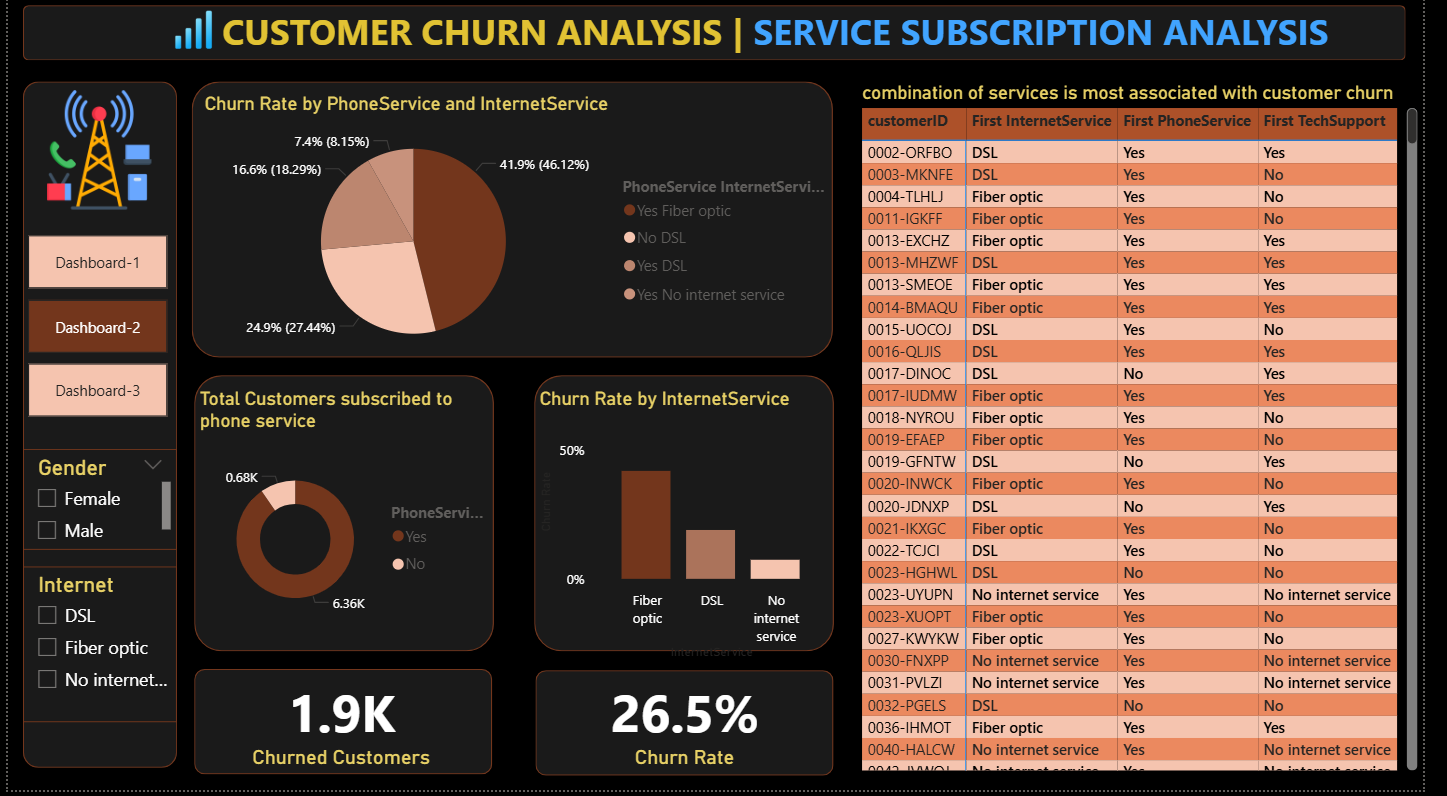

This screenshot's page, from the dashboard's own definition file:
{"tool":"powerbi","page":{"name":"Dashboard-2","canvas":[1280,720],"ordinal":1},"visuals":[{"type":"shape","box":[14.1,10.6,1250.7,50],"z":0},{"type":"textbox","box":[188.8,6.7,1031.2,59.1],"z":1000,"group":"g1"},{"type":"shape","box":[13.6,78.7,139.3,620.8],"z":1000},{"type":"shape","box":[166.6,78.7,579.9,249.8],"z":2000},{"type":"shape","box":[475.5,345.2,271,249.8],"z":3000},{"type":"slicer","fields":{"Values":["Telco_Customer_Churn_Data.gender"]},"box":[13.6,411.9,139.3,90.9],"z":4000},{"type":"slicer","fields":{"Values":["Telco_Customer_Churn_Data.InternetService"]},"box":[13.6,517.9,139.3,140.8],"z":5000},{"type":"image","box":[24.2,81.8,118.1,119.6],"z":6000},{"type":"group","id":"g1","title":"Group 1","box":[145.4,6.7,1074.5,59.1],"z":7000},{"type":"clusteredColumnChart","fields":{"Category":["Telco_Customer_Churn_Data.InternetService"],"Y":["Telco_Customer_Churn_Data.Churn Rate"]},"box":[475.5,355.8,271,249.8],"z":8000},{"type":"pieChart","fields":{"Category":["Telco_Customer_Churn_Data.PhoneService","Telco_Customer_Churn_Data.InternetService"],"Y":["Telco_Customer_Churn_Data.Churn Rate"]},"box":[172.6,89.3,567.8,249.8],"z":9000},{"type":"pivotTable","title":"combination of services is most associated with customer churn","fields":{"Values":["Min(Telco_Customer_Churn_Data.InternetService)","Min(Telco_Customer_Churn_Data.PhoneService)","Min(Telco_Customer_Churn_Data.TechSupport)"],"Rows":["Telco_Customer_Churn_Data.customerID"]},"box":[767.7,78.7,511.8,628.4],"z":10000},{"type":"shape","box":[168.1,345.2,271,249.8],"z":11000},{"type":"donutChart","title":"Total Customers subscribed to phone service ","fields":{"Y":["CountNonNull(Telco_Customer_Churn_Data.customerID)"],"Category":["Telco_Customer_Churn_Data.PhoneService"]},"box":[168.1,355.8,271,236.2],"z":12000},{"type":"shape","box":[168.1,610.2,269.5,95.4],"z":13000},{"type":"shape","box":[477,611.7,269.5,95.4],"z":14000},{"type":"card","title":"Total Customer","fields":{"Values":["Telco_Customer_Churn_Data.Churned Customers K"]},"box":[166.6,602.7,271,112.1],"z":15000},{"type":"card","title":"Total Customer","fields":{"Values":["Telco_Customer_Churn_Data.Churn Rate"]},"box":[480,602.7,263.5,112.1],"z":16000},{"type":"pageNavigator","box":[18.4,217.9,126.8,165.8],"z":17000},{"type":"image","box":[145.4,7.6,43.9,48.5],"z":24004,"group":"g1"}]}

Visuals, with their boxes in screenshot pixels (x1, y1, x2, y2), scaled from the page's 1280x720 canvas onto the 1447x796 screenshot:
shape: (left=16, top=12, right=1430, bottom=67)
textbox: (left=213, top=7, right=1379, bottom=73)
shape: (left=15, top=87, right=173, bottom=773)
shape: (left=188, top=87, right=844, bottom=363)
shape: (left=538, top=382, right=844, bottom=658)
slicer - Telco_Customer_Churn_Data.gender: (left=15, top=455, right=173, bottom=556)
slicer - Telco_Customer_Churn_Data.InternetService: (left=15, top=573, right=173, bottom=728)
image: (left=27, top=90, right=161, bottom=223)
"Group 1" group: (left=164, top=7, right=1379, bottom=73)
clusteredColumnChart - Telco_Customer_Churn_Data.InternetService x Telco_Customer_Churn_Data.Churn Rate: (left=538, top=393, right=844, bottom=670)
pieChart - Telco_Customer_Churn_Data.PhoneService x Telco_Customer_Churn_Data.InternetService: (left=195, top=99, right=837, bottom=375)
"combination of services is most associated with customer churn" pivotTable: (left=868, top=87, right=1446, bottom=782)
shape: (left=190, top=382, right=496, bottom=658)
"Total Customers subscribed to phone service " donutChart: (left=190, top=393, right=496, bottom=654)
shape: (left=190, top=675, right=495, bottom=780)
shape: (left=539, top=676, right=844, bottom=782)
"Total Customer" card: (left=188, top=666, right=495, bottom=790)
"Total Customer" card: (left=543, top=666, right=841, bottom=790)
pageNavigator: (left=21, top=241, right=164, bottom=424)
image: (left=164, top=8, right=214, bottom=62)
